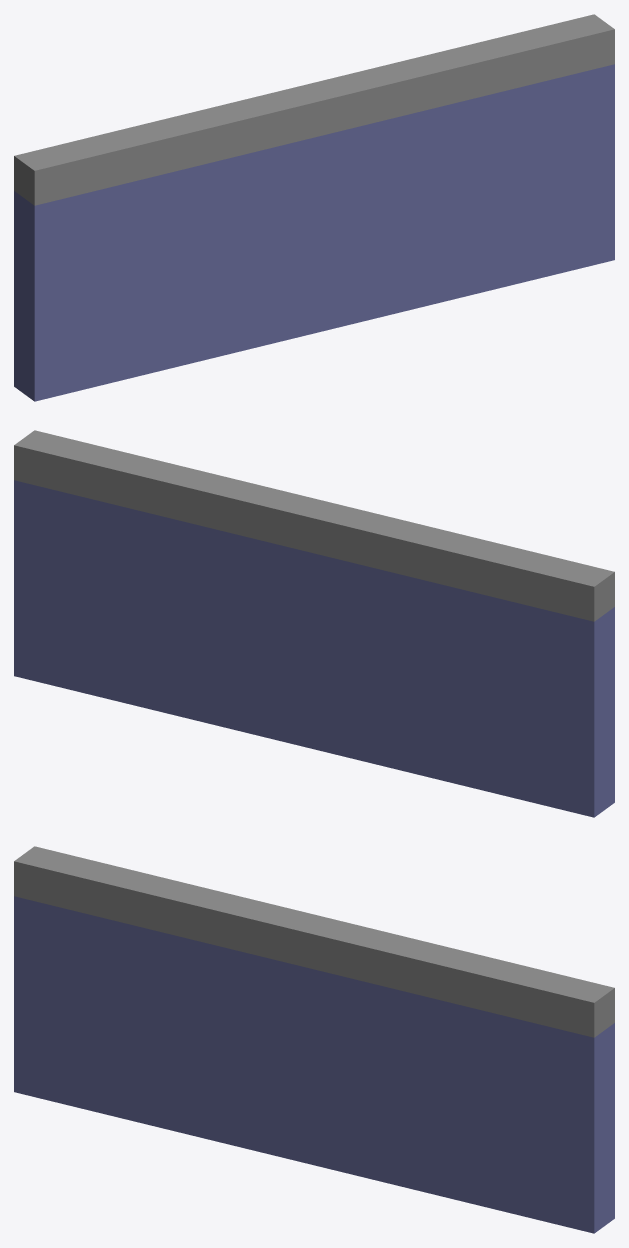
Rendered from W_M_maze_4_Wall_L2.fbx.
3 renders of one model, top to bottom at view 1: azimuth 30°, elevation 25°; view 2: azimuth 150°, elevation 25°; view 3: azimuth 330°, elevation 25°, orthographic.
Visible parts, largest first — view 1: W_M_maze_4_Wall_L2; view 2: W_M_maze_4_Wall_L2; view 3: W_M_maze_4_Wall_L2.
Part boxes in pixels (bbox=[...]): W_M_maze_4_Wall_L2: bbox=[14, 14, 614, 401]; W_M_maze_4_Wall_L2: bbox=[14, 430, 614, 817]; W_M_maze_4_Wall_L2: bbox=[14, 846, 614, 1233].
Bounding box in the file's own units: 4 × 1.52 × 0.247.
